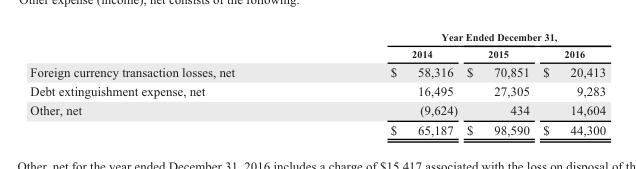table: (29, 29, 605, 137)
table column: (29, 29, 311, 137), (311, 29, 461, 137), (461, 29, 535, 137), (535, 29, 605, 137)
table column header: (29, 29, 605, 61)
table row: (29, 80, 605, 100), (29, 61, 605, 80), (29, 100, 605, 119), (29, 119, 605, 137), (29, 44, 605, 61), (29, 29, 605, 44)
table spanning cell: (311, 29, 605, 44)
